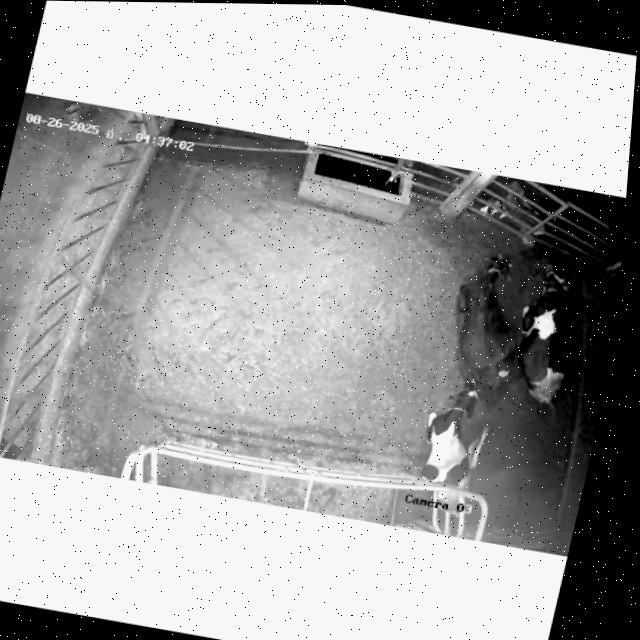lay: (419, 241, 542, 407), (504, 253, 605, 421), (397, 366, 514, 502)
